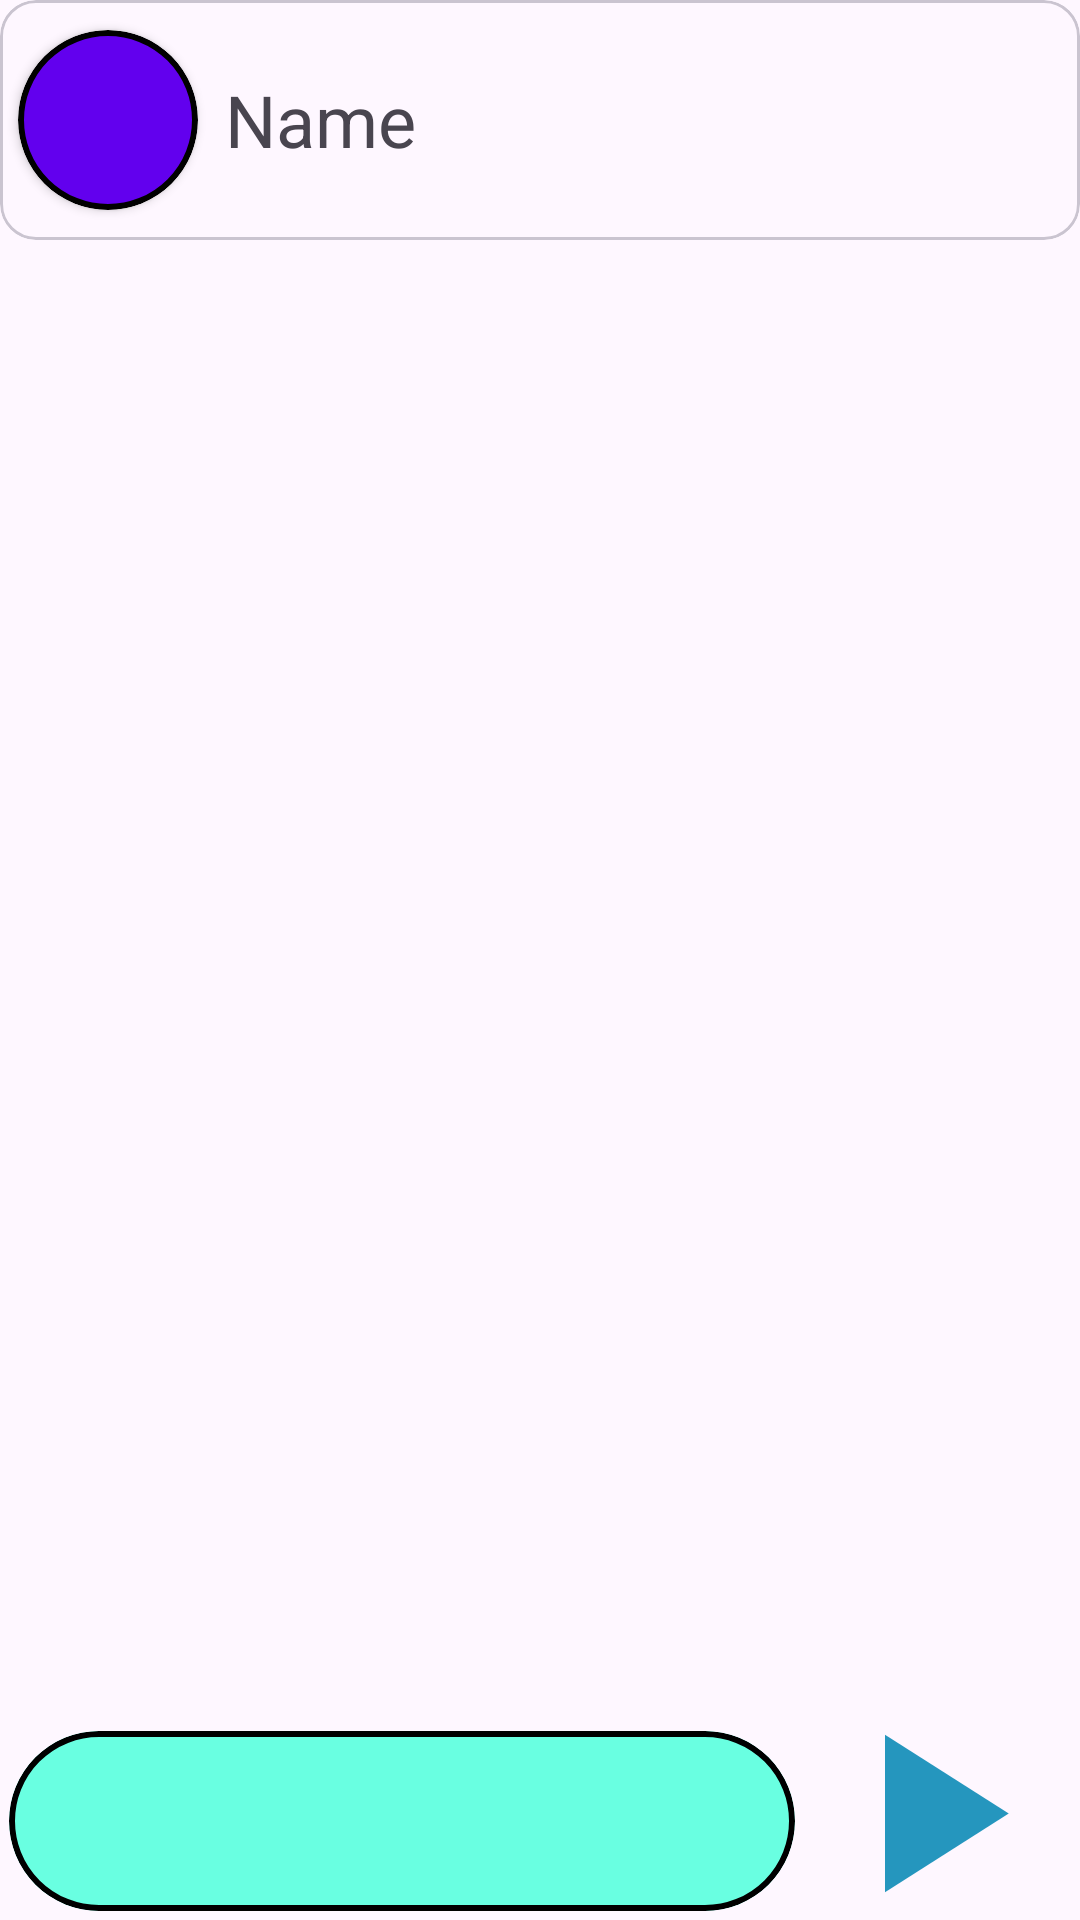

Locate icon controls on the screen. Image size 1080px x 1920px, boxes as (x1, y1, x2, y2).
play: (885, 1735, 1009, 1892)
